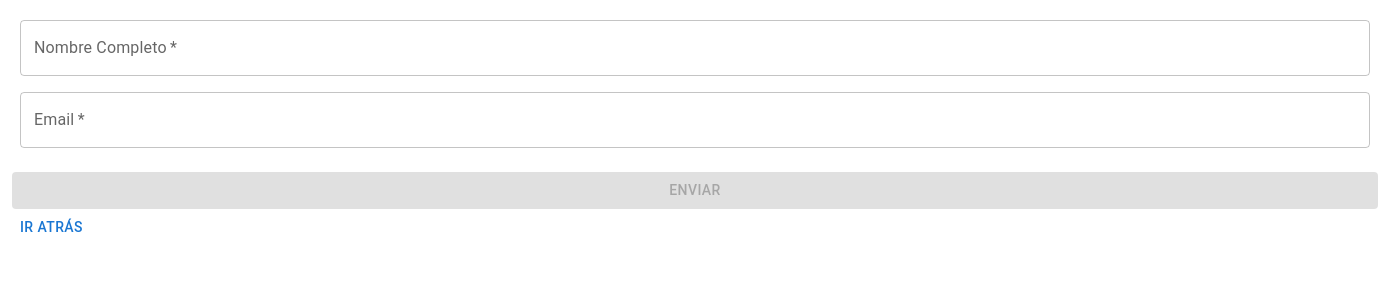
Scenario: Form tests › Successfull Form test
This screenshot has width=1390, height=289.
Type "Test name" into the field labelled "Nombre Completo *" at {"x": 695, "y": 48}, box [20,20,1370,76]
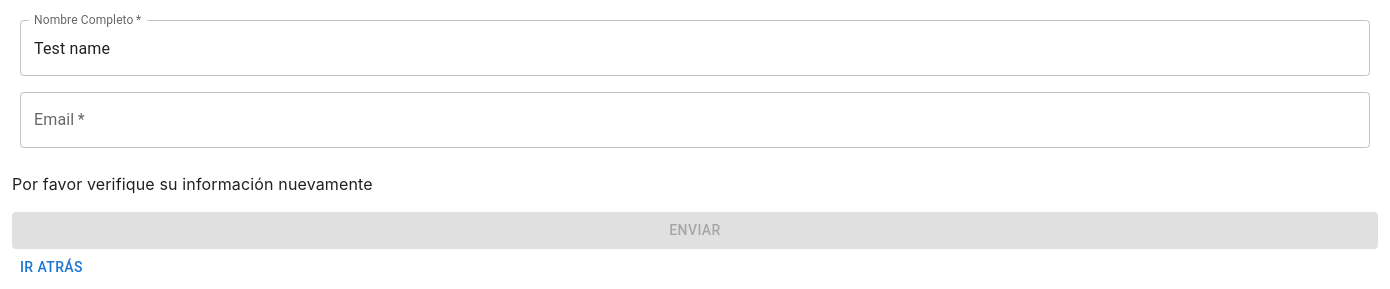
Type "test@test.com" into the field labelled "Email *" at {"x": 695, "y": 120}, box [20,92,1370,148]
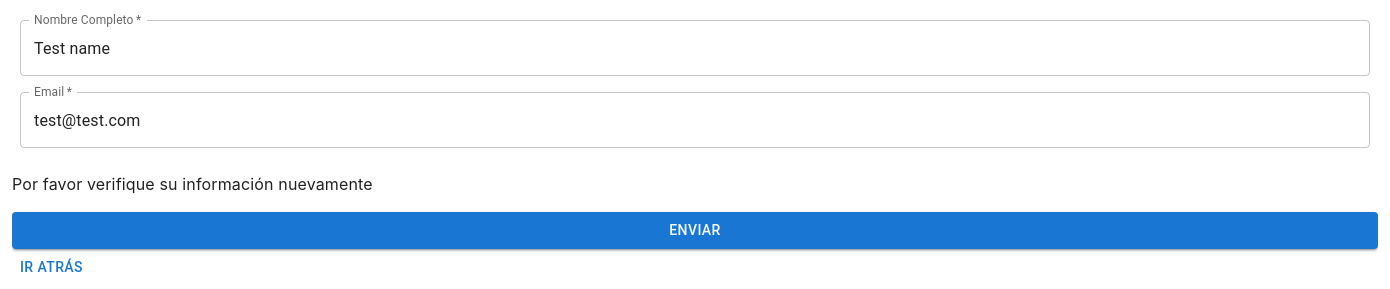
Click the button with test id "submitBtn" at {"x": 695, "y": 230}, box [12,212,1378,248]
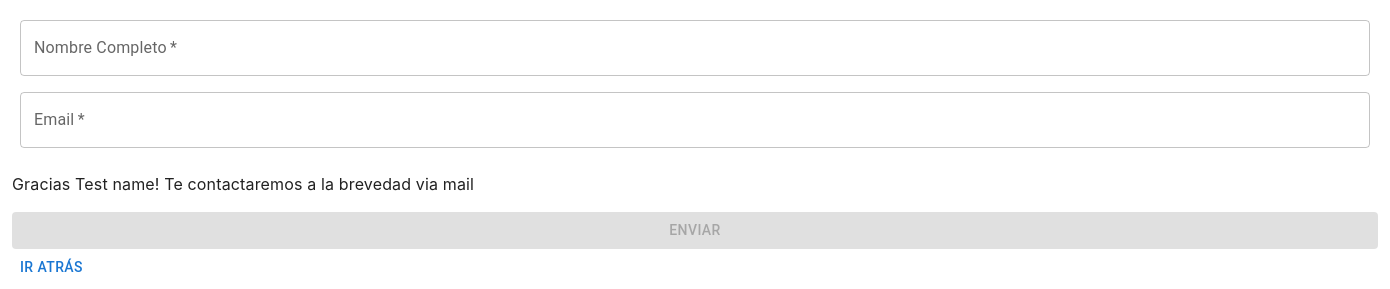
Now the text "Gracias Test name! Te contactaremos a la brevedad via mail" is shown, box [12,174,474,194]
